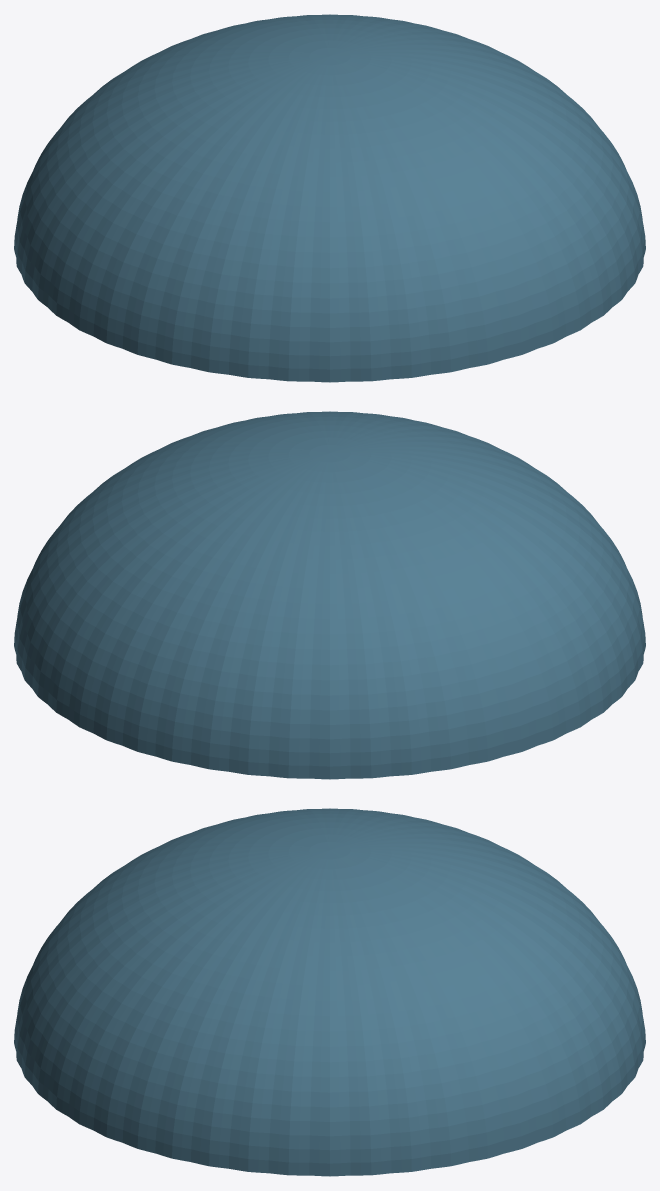
The model's file is cortinas-cerradas.glb.
3 renders of one model, top to bottom at view 1: azimuth 30°, elevation 25°; view 2: azimuth 150°, elevation 25°; view 3: azimuth 270°, elevation 25°, orthographic.
Visible parts, largest first — view 1: Cortina; view 2: Cortina; view 3: Cortina.
Boxes of the visible parts, bbox=[...] form: Cortina: bbox=[14, 14, 645, 382]; Cortina: bbox=[14, 411, 645, 779]; Cortina: bbox=[14, 808, 645, 1176].
Size of the model in its own units: 39.58 by 13.32 by 39.58.
